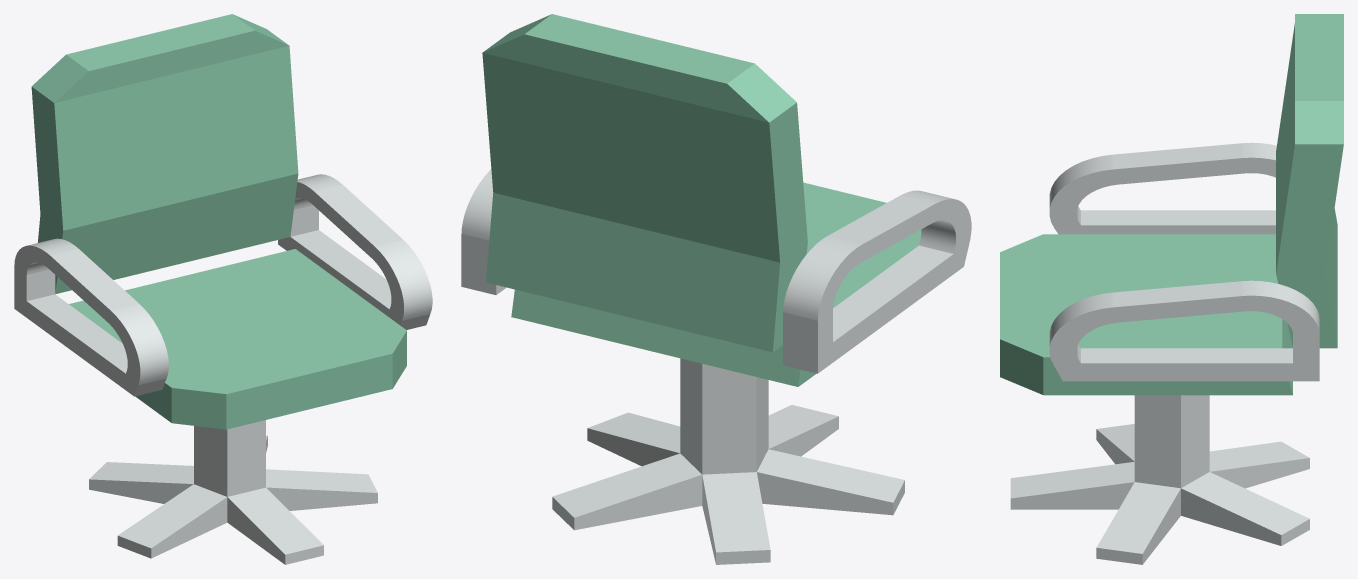
File: office-chair.glb
The picture shows the model from 3 angles, left to right: view 1: azimuth 30°, elevation 25°; view 2: azimuth 150°, elevation 25°; view 3: azimuth 270°, elevation 25°; orthographic projection. The views are drawn at different scales.
Visible parts, largest first — view 1: vendor-mint, vendor-aluminium; view 2: vendor-mint, vendor-aluminium; view 3: vendor-aluminium, vendor-mint.
Boxes of the visible parts, <box> form: vendor-mint: <box>31,14,406,429</box>; vendor-aluminium: <box>14,174,432,564</box>; vendor-mint: <box>482,14,921,386</box>; vendor-aluminium: <box>461,169,971,564</box>; vendor-aluminium: <box>1010,142,1319,564</box>; vendor-mint: <box>1000,14,1343,395</box>.
Size of the model in its own units: 1.37 by 1.84 by 1.3.
1 material, 1 textured.
